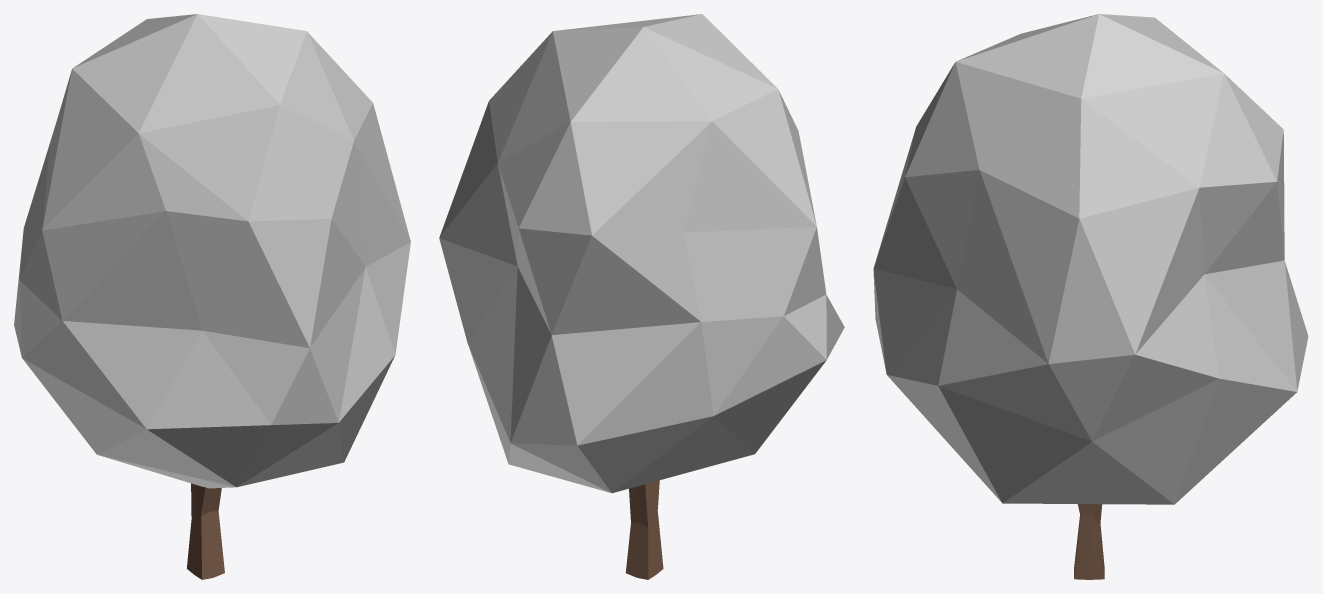
The model's file is Tree_2_White.fbx.
The picture shows the model from 3 angles, left to right: view 1: azimuth 30°, elevation 25°; view 2: azimuth 150°, elevation 25°; view 3: azimuth 270°, elevation 25°; orthographic projection.
Visible parts, largest first — view 1: Tree_2_White_Part_1, Tree_2_White_Part_2; view 2: Tree_2_White_Part_1, Tree_2_White_Part_2; view 3: Tree_2_White_Part_1, Tree_2_White_Part_2.
Part boxes in pixels (x1=…): Tree_2_White_Part_1: x1=14, y1=14, x2=410, y2=488; Tree_2_White_Part_2: x1=187, y1=483, x2=224, y2=579; Tree_2_White_Part_1: x1=439, y1=14, x2=844, y2=493; Tree_2_White_Part_2: x1=625, y1=480, x2=663, y2=579; Tree_2_White_Part_1: x1=873, y1=14, x2=1308, y2=504; Tree_2_White_Part_2: x1=1074, y1=504, x2=1104, y2=579.
Bounding box in the file's own units: 550 × 792 × 557.
